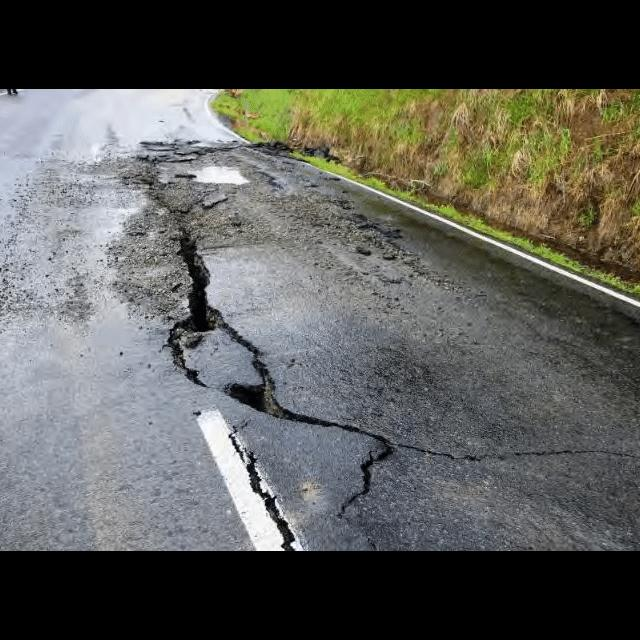retak_memanjang: (322, 417, 640, 551), (123, 219, 312, 426), (222, 429, 307, 551)
